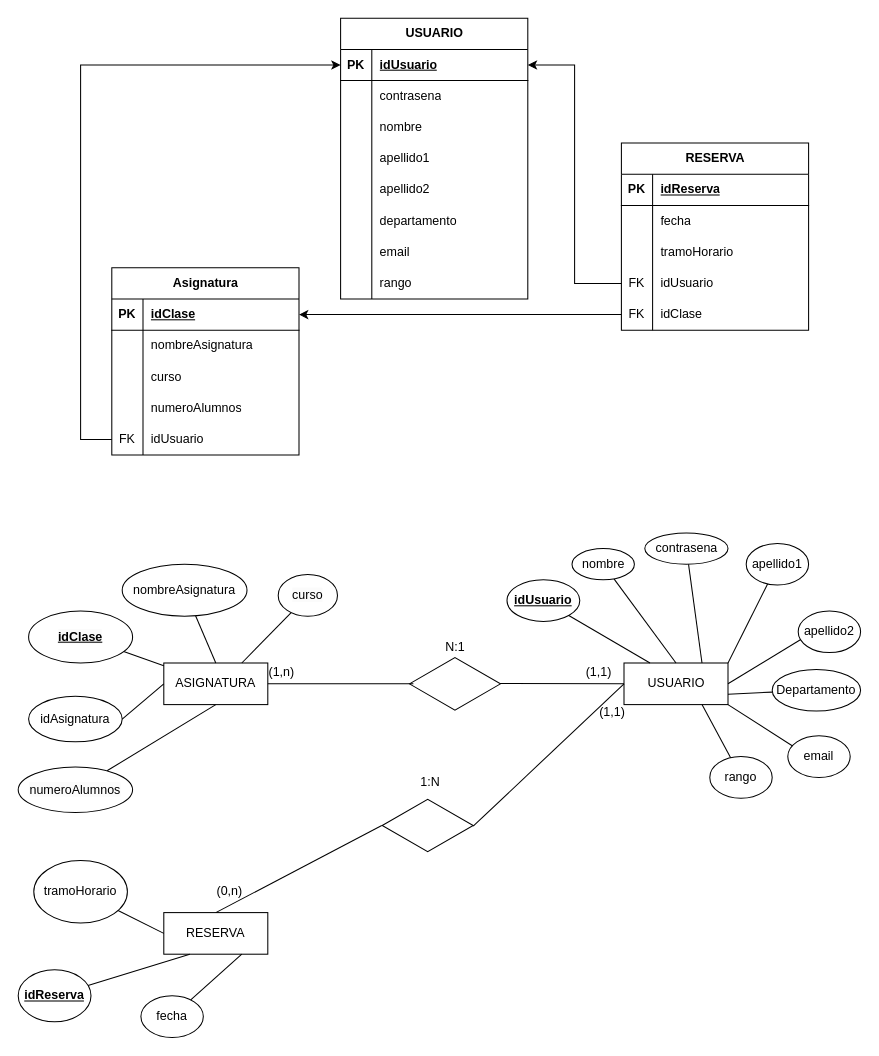
Some shapes in this 879 by 1056 pixel diagram are drawn without their labels. Each missing label, with the box of its shape:
hace: (381, 797, 473, 853)
pertenece: (408, 656, 500, 711)
